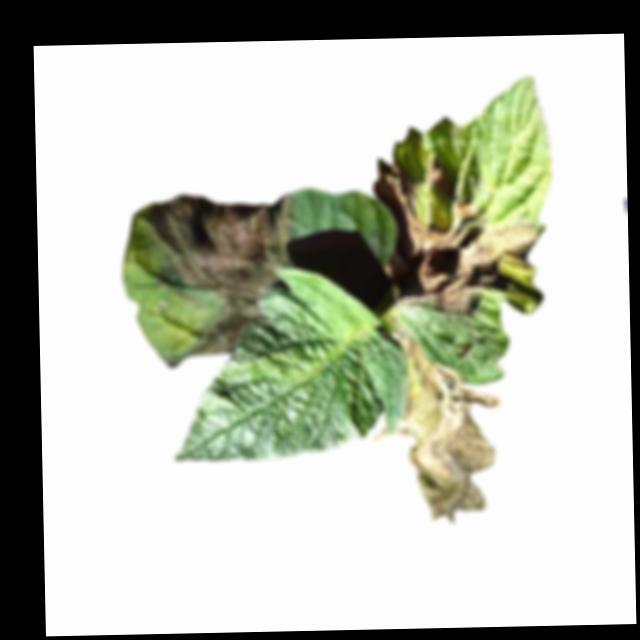Late_blight: (365, 333, 506, 527), (132, 190, 294, 357), (409, 219, 545, 319), (372, 157, 419, 292), (426, 161, 453, 194), (455, 197, 481, 219)
healthy: (171, 265, 412, 462)
